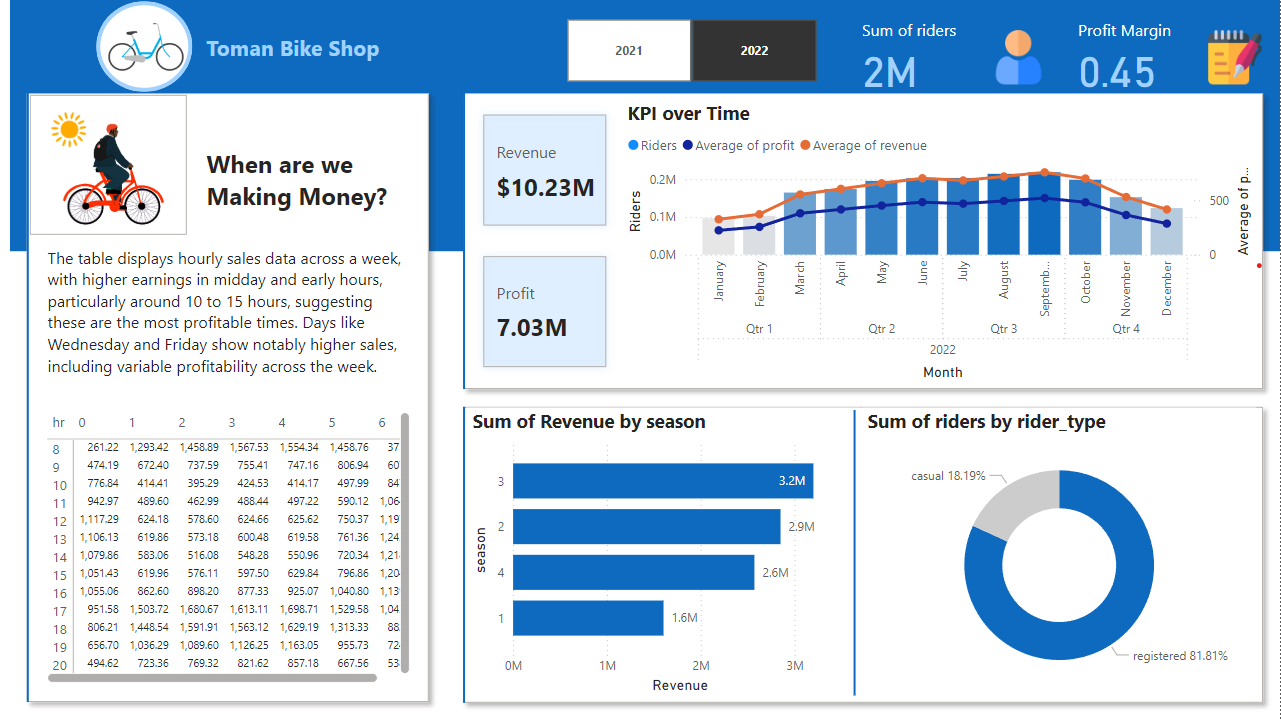

The page's visual inventory and layout, read from the dashboard file:
{"tool":"powerbi","page":{"name":"Dashboard","canvas":[1280,720],"ordinal":0},"visuals":[{"type":"shape","box":[9.6,0,1270.7,251.1],"z":0},{"type":"cardVisual","fields":{"Data":["Min(Query1.riders)"]},"box":[9.6,76.8,436.4,643.6],"z":1000},{"type":"cardVisual","fields":{"Data":["Min(Query1.riders)"]},"box":[446,76.8,834.3,330.7],"z":2000},{"type":"cardVisual","fields":{"Data":["Min(Query1.riders)"]},"box":[446,389.7,834.3,330.7],"z":3000},{"type":"cardVisual","fields":{"Data":["Min(Query1.riders)"]},"box":[24.7,90.6,167.4,150.9],"z":4000},{"type":"pivotTable","fields":{"Values":["Avg(Query1.revenue)"],"Columns":["Query1.weekday"],"Rows":["Query1.hr"]},"box":[42.5,407.5,371.9,279.9],"z":5000},{"type":"textbox","box":[201.7,142.7,212.7,82.3],"z":6000},{"type":"textbox","box":[42.5,241.5,371.9,148.2],"z":7000},{"type":"lineClusteredColumnComboChart","title":"KPI over Time","fields":{"Category":["Query1.dteday.Variation.Date Hierarchy.Year","Query1.dteday.Variation.Date Hierarchy.Quarter","Query1.dteday.Variation.Date Hierarchy.Month","Query1.dteday.Variation.Date Hierarchy.Day"],"Y":["Sum(Query1.riders)"],"Y2":["Avg(Query1.profit)","Avg(Query1.revenue)"]},"box":[623,100.2,634,285.4],"z":7001},{"type":"clusteredBarChart","title":"Sum of Revenue by season","fields":{"Category":["Query1.season"],"Y":["Sum(Query1.revenue)"]},"box":[467.9,407.5,393.8,290.9],"z":7002},{"type":"donutChart","fields":{"Category":["Query1.rider_type"],"Y":["Sum(Query1.riders)"]},"box":[863.1,407.5,393.8,290.9],"z":7003},{"type":"shape","box":[705,410,299.1,285.4],"z":7004},{"type":"cardVisual","title":"KPI over Time","fields":{"Data":["Sum(Query1.revenue)","Sum(Query1.profit)"]},"box":[467.9,98.8,155.1,285.4],"z":7005},{"type":"cardVisual","fields":{"Data":["Sum(Query1.riders)","Query1.Profit Margin"]},"box":[845.3,1.4,435,97.4],"z":7006},{"type":"shape","box":[96.1,1.4,96.1,90.6],"z":7007},{"type":"image","box":[100.2,0,91.9,93.3],"z":7008},{"type":"textbox","box":[201.7,27.4,189.4,49.4],"z":7009},{"type":"slicer","fields":{"Values":["Query1.Year"]},"box":[540.7,12.3,299.1,75.5],"z":7010}]}

Visuals, with their boxes in screenshot pixels (x1, y1, x2, y2), scaled from the page's 1280x720 canvas onto the 1281x720 screenshot:
shape: <box>10,0,1280,251</box>
cardVisual - Min(Query1.riders): <box>10,77,446,719</box>
cardVisual - Min(Query1.riders): <box>446,77,1280,408</box>
cardVisual - Min(Query1.riders): <box>446,390,1280,719</box>
cardVisual - Min(Query1.riders): <box>25,91,192,242</box>
pivotTable - Avg(Query1.revenue) x Query1.weekday: <box>43,408,415,687</box>
textbox: <box>202,143,415,225</box>
textbox: <box>43,242,415,390</box>
"KPI over Time" lineClusteredColumnComboChart: <box>623,100,1258,386</box>
"Sum of Revenue by season" clusteredBarChart: <box>468,408,862,698</box>
donutChart - Query1.rider_type x Sum(Query1.riders): <box>864,408,1258,698</box>
shape: <box>706,410,1005,695</box>
"KPI over Time" cardVisual: <box>468,99,623,384</box>
cardVisual - Sum(Query1.riders) x Query1.Profit Margin: <box>846,1,1280,99</box>
shape: <box>96,1,192,92</box>
image: <box>100,0,192,93</box>
textbox: <box>202,27,391,77</box>
slicer - Query1.Year: <box>541,12,840,88</box>
